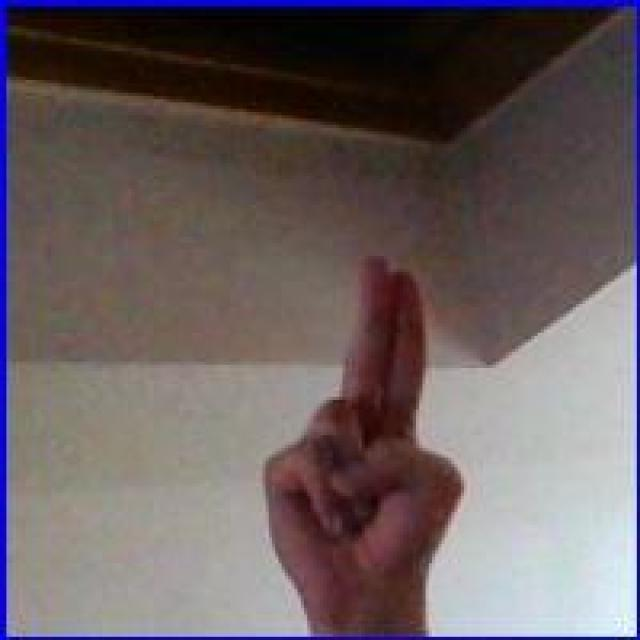U: (250, 253, 480, 614)
